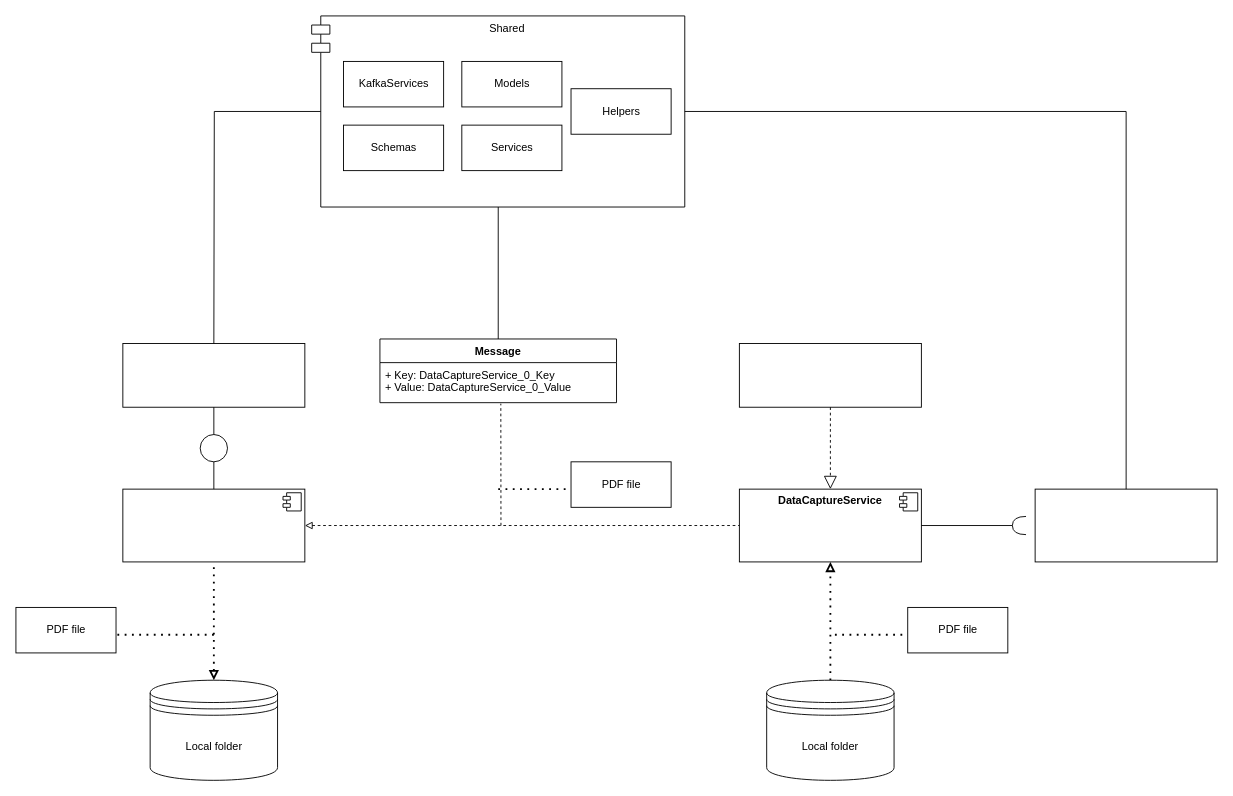
This 1233x796 diagram has some shape labels left out. Here are the shapes that lost their labels. From the top down, the centre of each, then its label:
the point at 213,375: «interface» IMainProcessingService
the point at 829,375: «interface» IDataCaptureService
the point at 213,525: MainProcessingService
the point at 1125,525: «interface» IKafkaProducer
